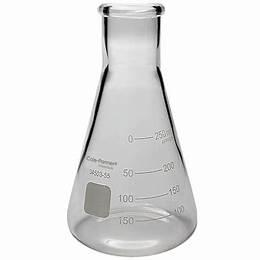Titrarion: (69, 11, 198, 259)
